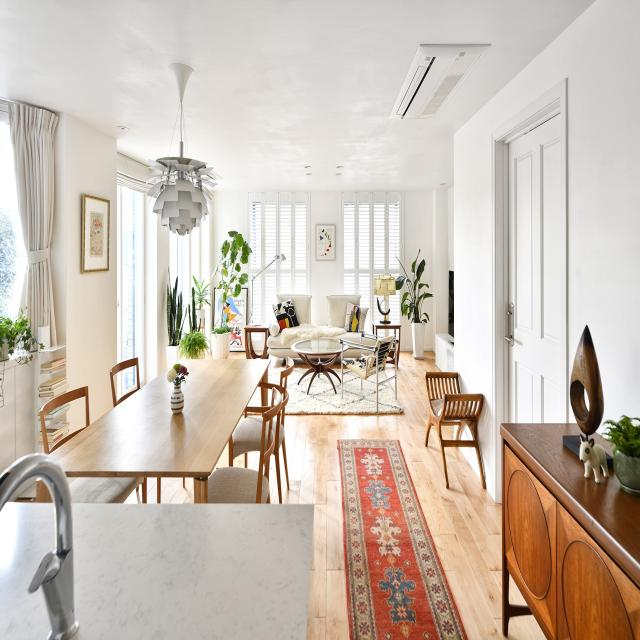vintage chair: (245, 356, 297, 503)
vintage desk: (55, 356, 270, 503), (289, 336, 342, 397)
vintage shelf: (497, 417, 640, 640)
